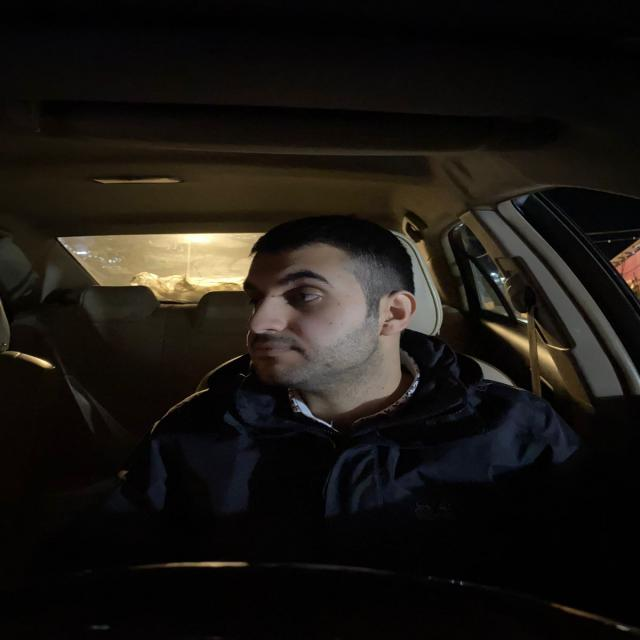LeftRight: (221, 214, 423, 390)
